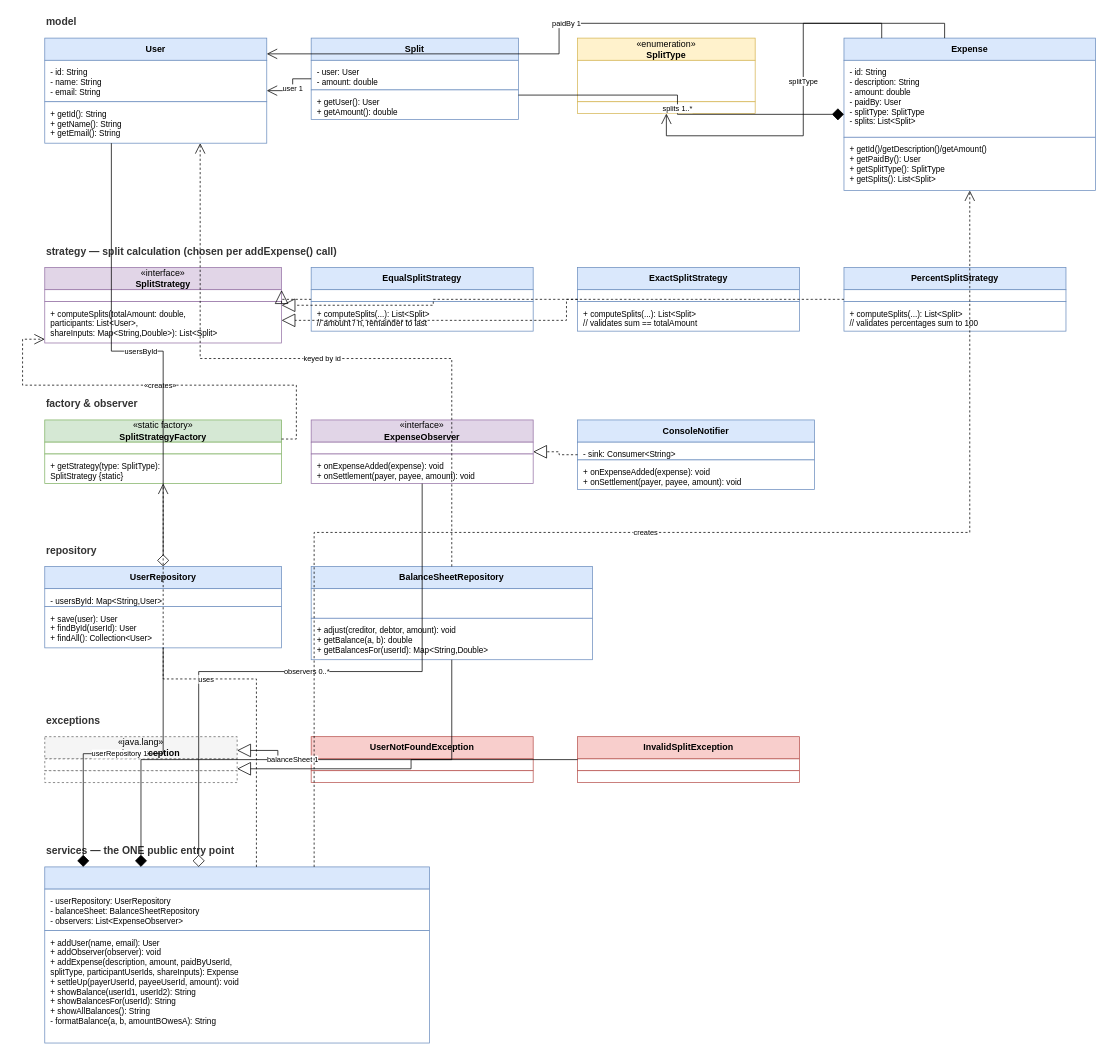
Image size: 1109x1056. Some labels were removed from this diagram. Each missing label, with the box of its shape:
- balances: Map<String,Map<String,Double>> // balances[A][B] = amount B owes A: (310, 588, 592, 618)
EQUAL EXACT PERCENT: (577, 60, 755, 102)
SplitwiseService: (44, 866, 430, 889)
